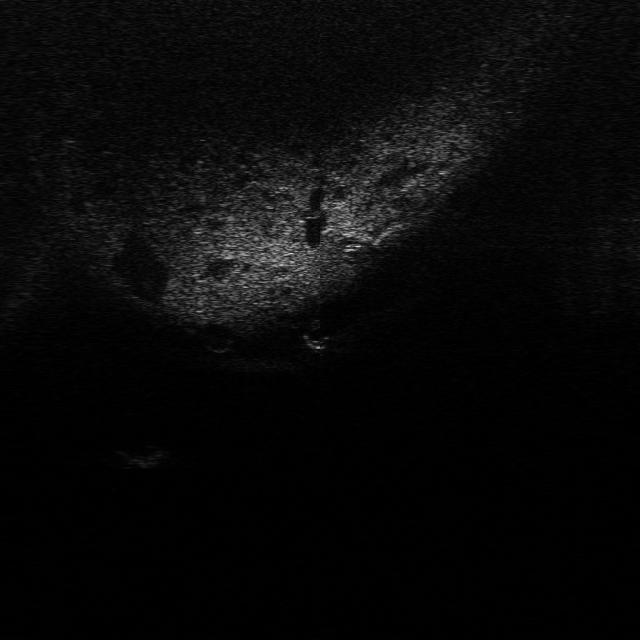ball: (300, 319, 334, 352)
cube: (110, 444, 170, 472)
